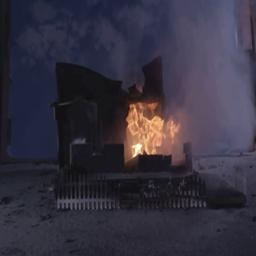fire: (124, 91, 184, 161)
